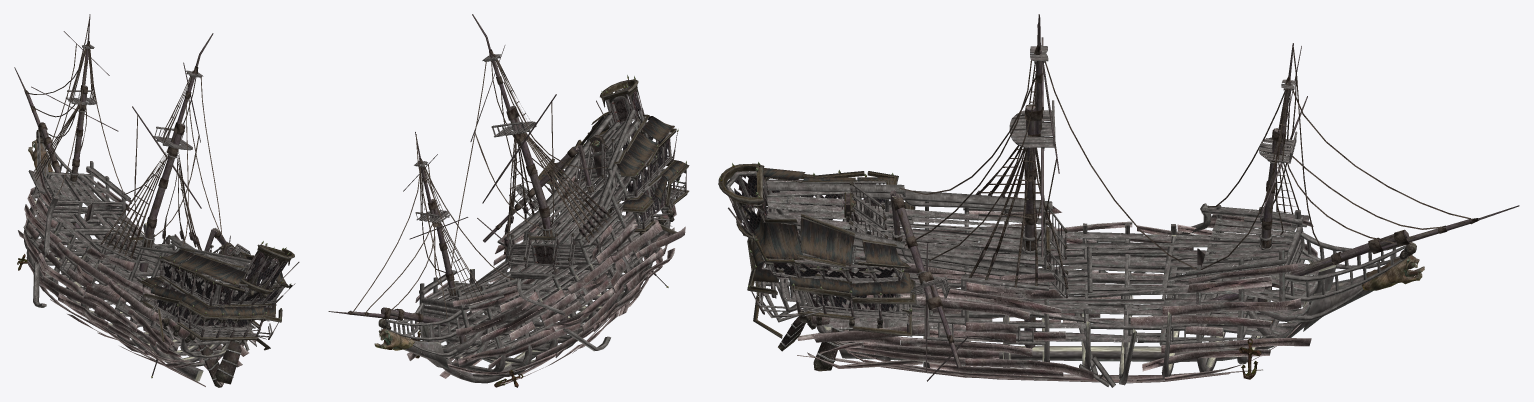
File: Shared_ShipWreck_A-transformed.glb
3 renders of one model, left to right at view 1: azimuth 30°, elevation 25°; view 2: azimuth 150°, elevation 25°; view 3: azimuth 270°, elevation 25°, orthographic. The views are drawn at different scales.
Visible parts, largest first — view 1: Shared_ShipWreck_A; view 2: Shared_ShipWreck_A; view 3: Shared_ShipWreck_A.
Boxes of the visible parts, left/top/right/bottom form: Shared_ShipWreck_A: left=14, top=14, right=299, bottom=387; Shared_ShipWreck_A: left=328, top=14, right=689, bottom=387; Shared_ShipWreck_A: left=718, top=14, right=1519, bottom=387.
Size of the model in its own units: 21.98 by 34.63 by 61.82.
Materials: 3 (3 with a texture image).
